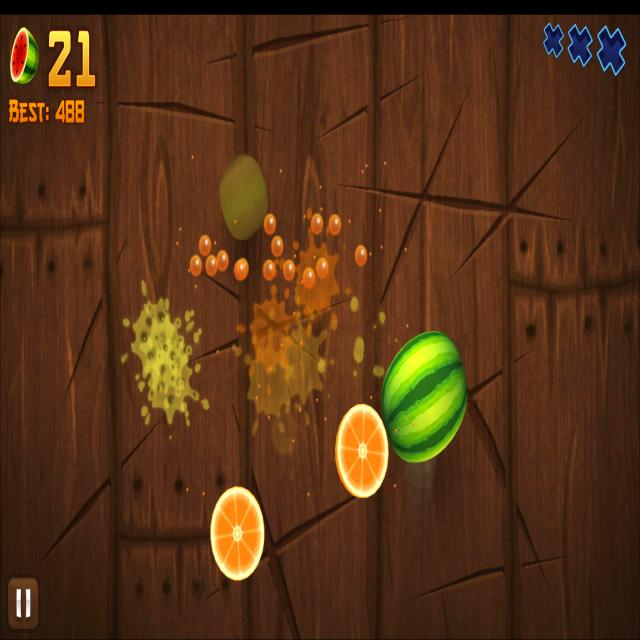fruit: (381, 329, 468, 464), (218, 155, 270, 241)
